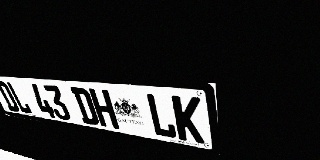3: (43, 85, 72, 121)
4: (28, 83, 57, 119)
D: (70, 87, 100, 126), (0, 81, 21, 112)
H: (88, 88, 120, 129)
K: (171, 95, 205, 144)
L: (145, 93, 177, 139), (6, 82, 33, 114)
